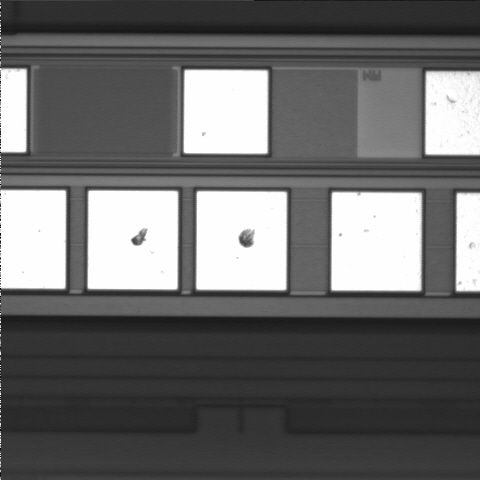pad: (196, 191, 287, 290), (331, 192, 421, 291), (88, 191, 178, 289), (184, 70, 268, 154)
